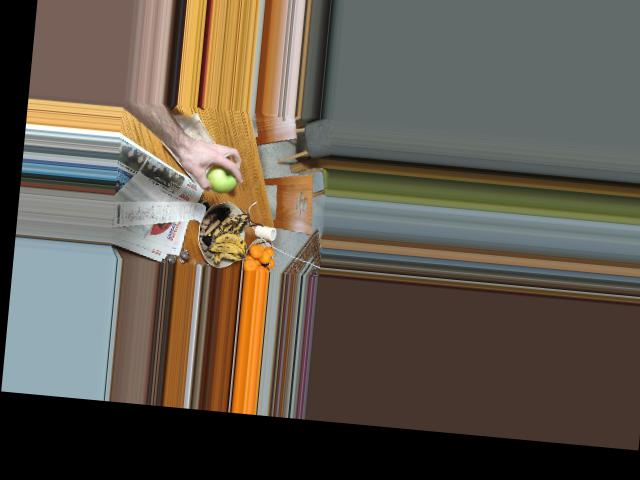apple: (201, 160, 243, 194)
